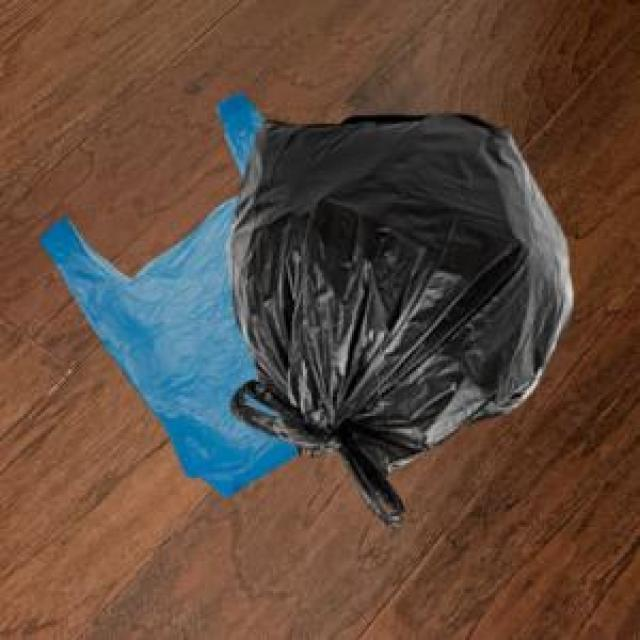miscellaneous trash: (222, 109, 570, 525)
